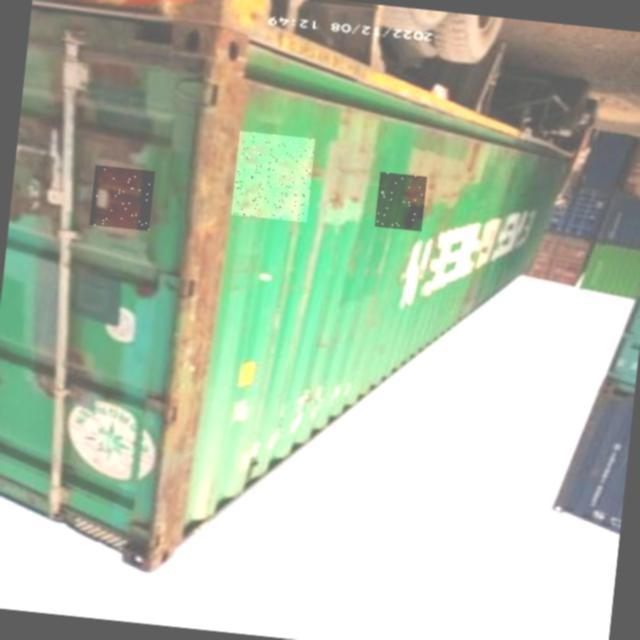Rust: (231, 131, 315, 222), (89, 165, 155, 231), (374, 171, 427, 231)
